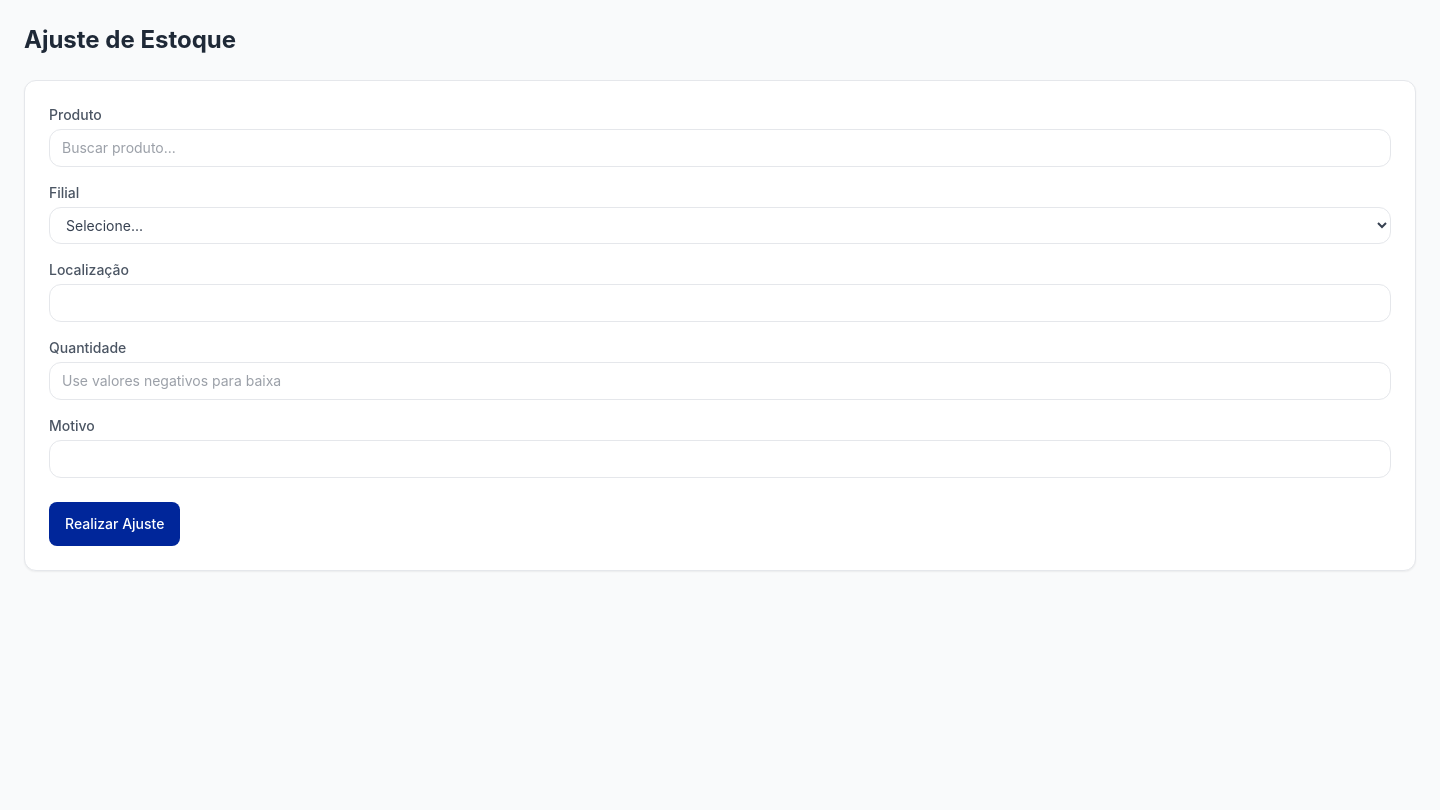
Test case: AdjustmentForm › requires reason field
Type "prod-1" into the field labelled "Produto" at [720, 148], box [49,129,1391,167]
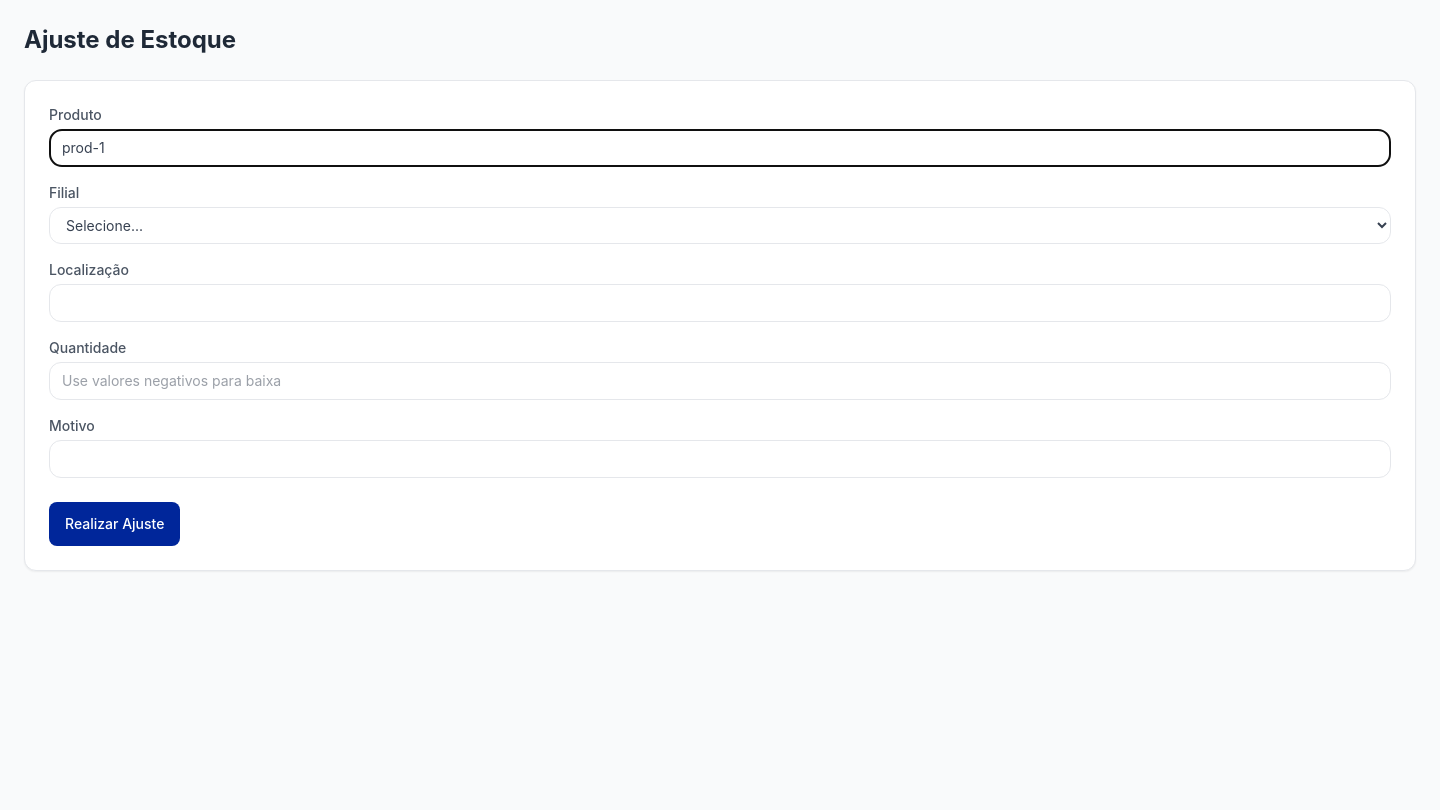
Select "Centro" in the dropdown labelled "Filial" at [720, 226], box [49,207,1391,244]
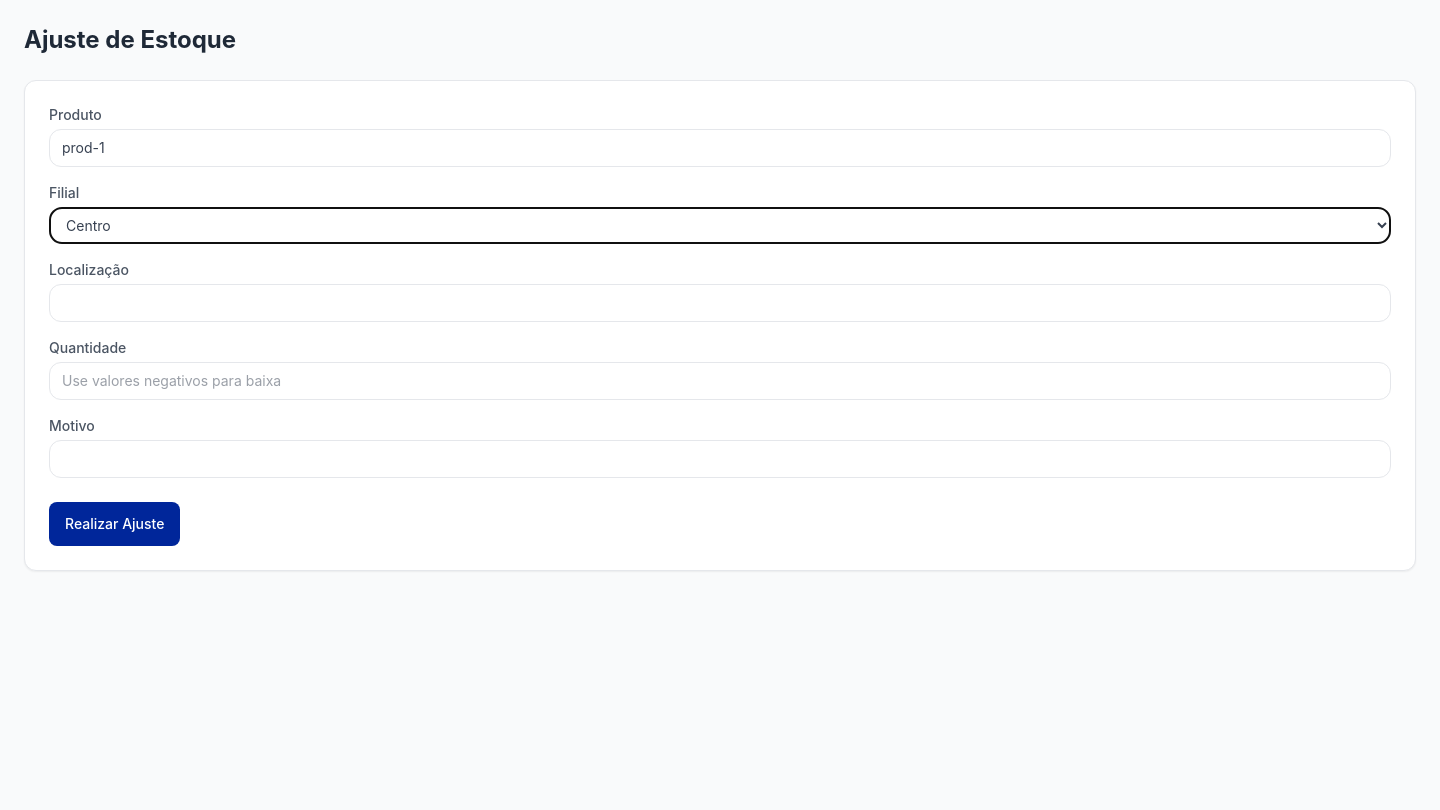
Type "loc-a" into the field labelled "Localização" at [720, 303], box [49,284,1391,322]
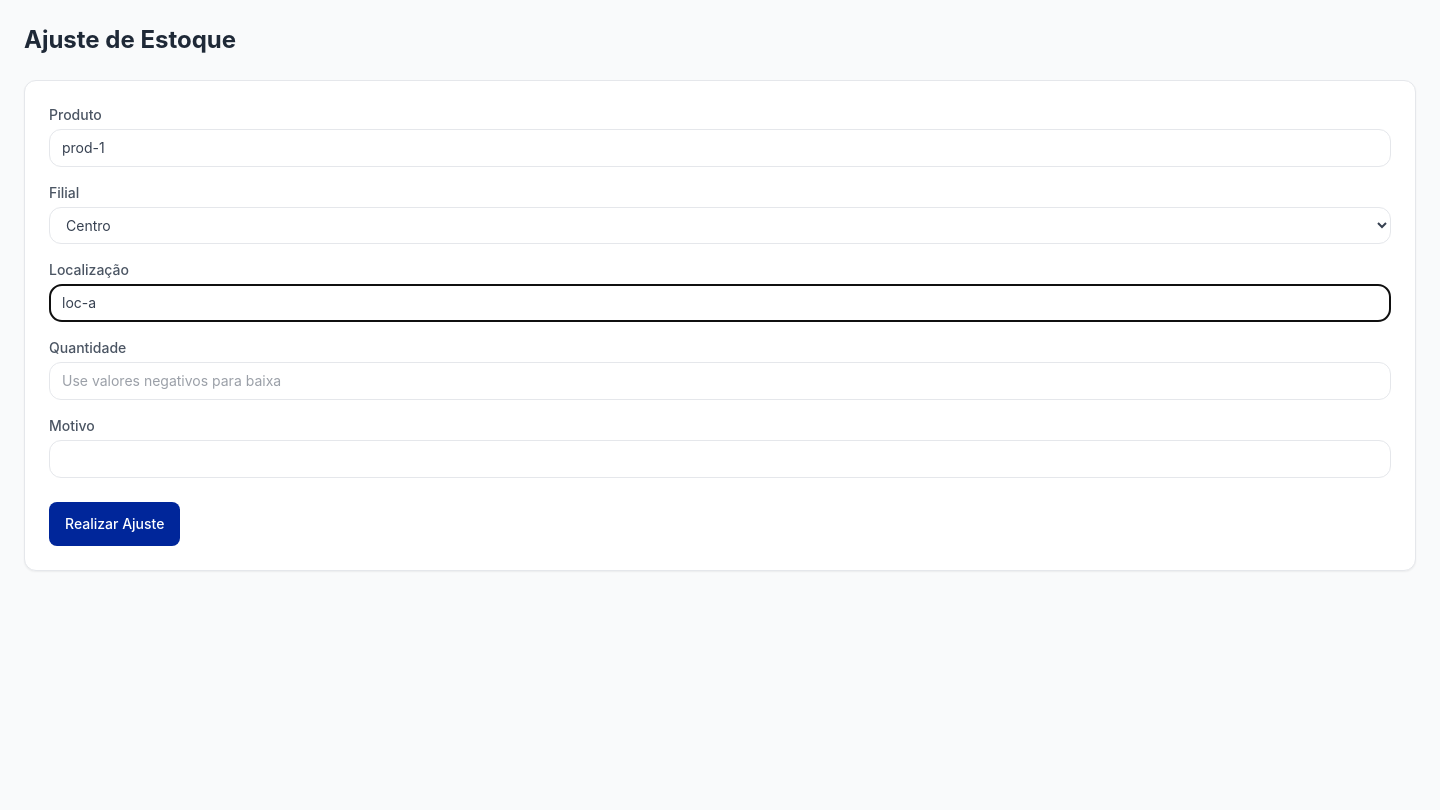
Type "10" into the field labelled "Quantidade" at [720, 381], box [49,362,1391,400]
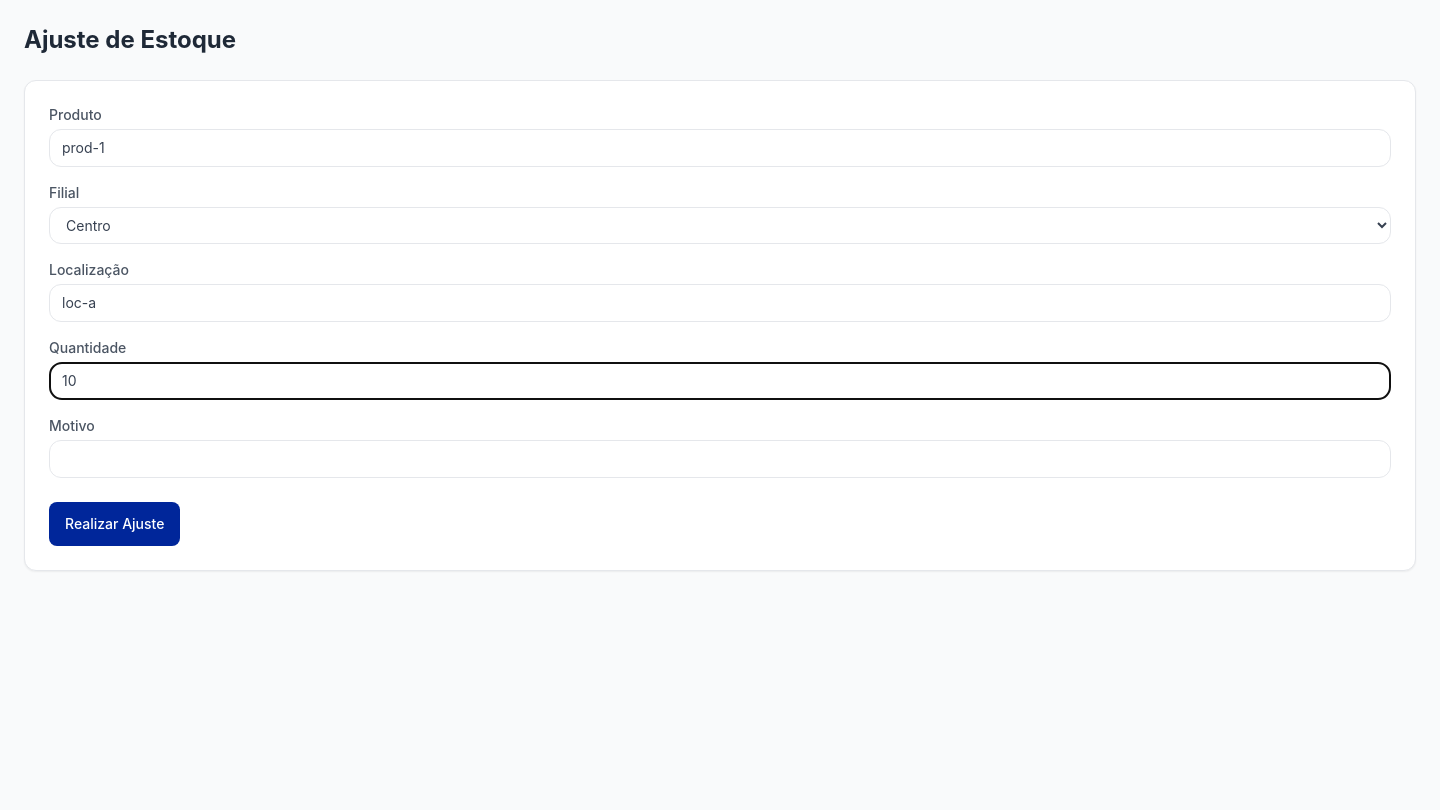
Click the button "Realizar Ajuste" at [115, 524], box [49,502,180,546]
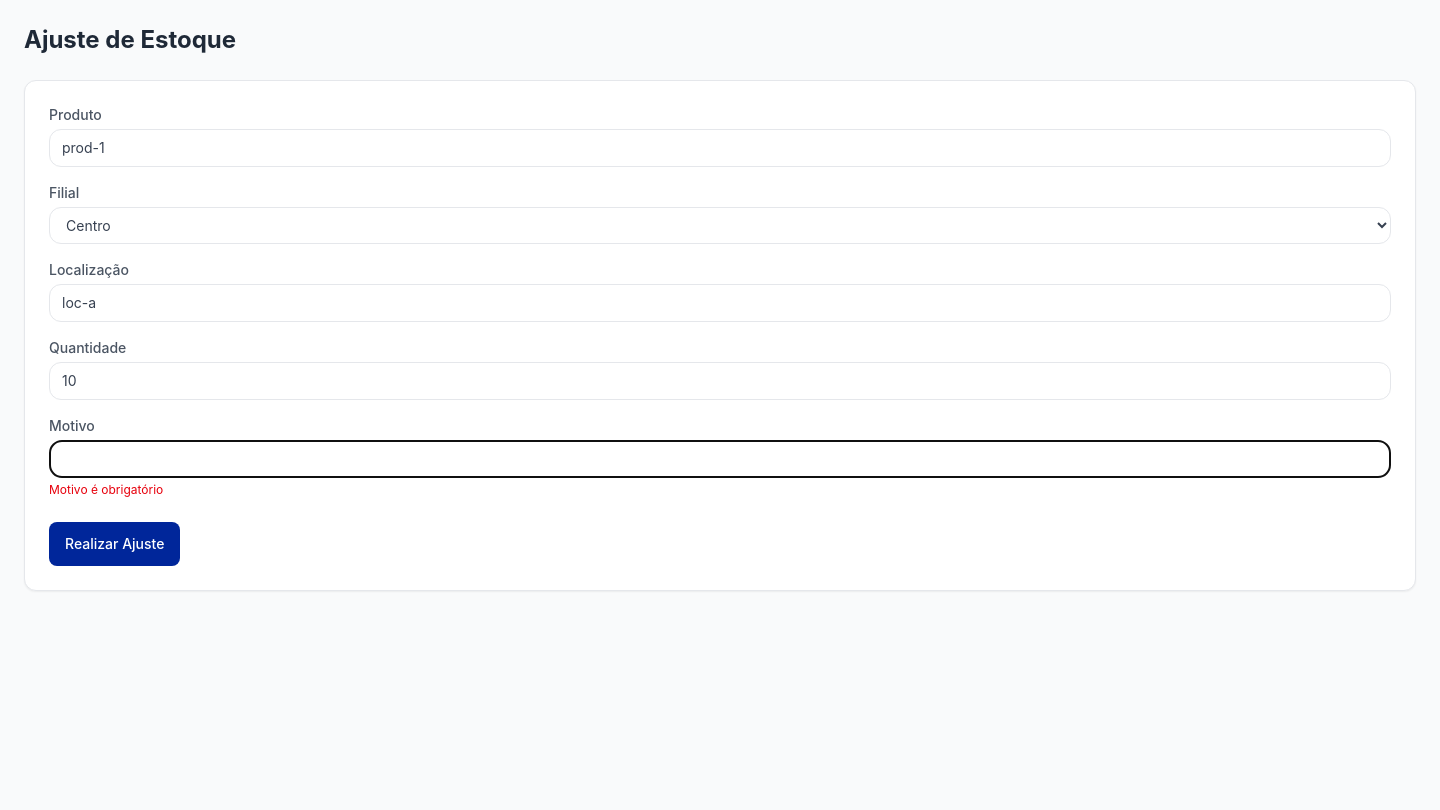
Result: the text "Motivo é obrigatório" is shown at [49,482,163,497]
